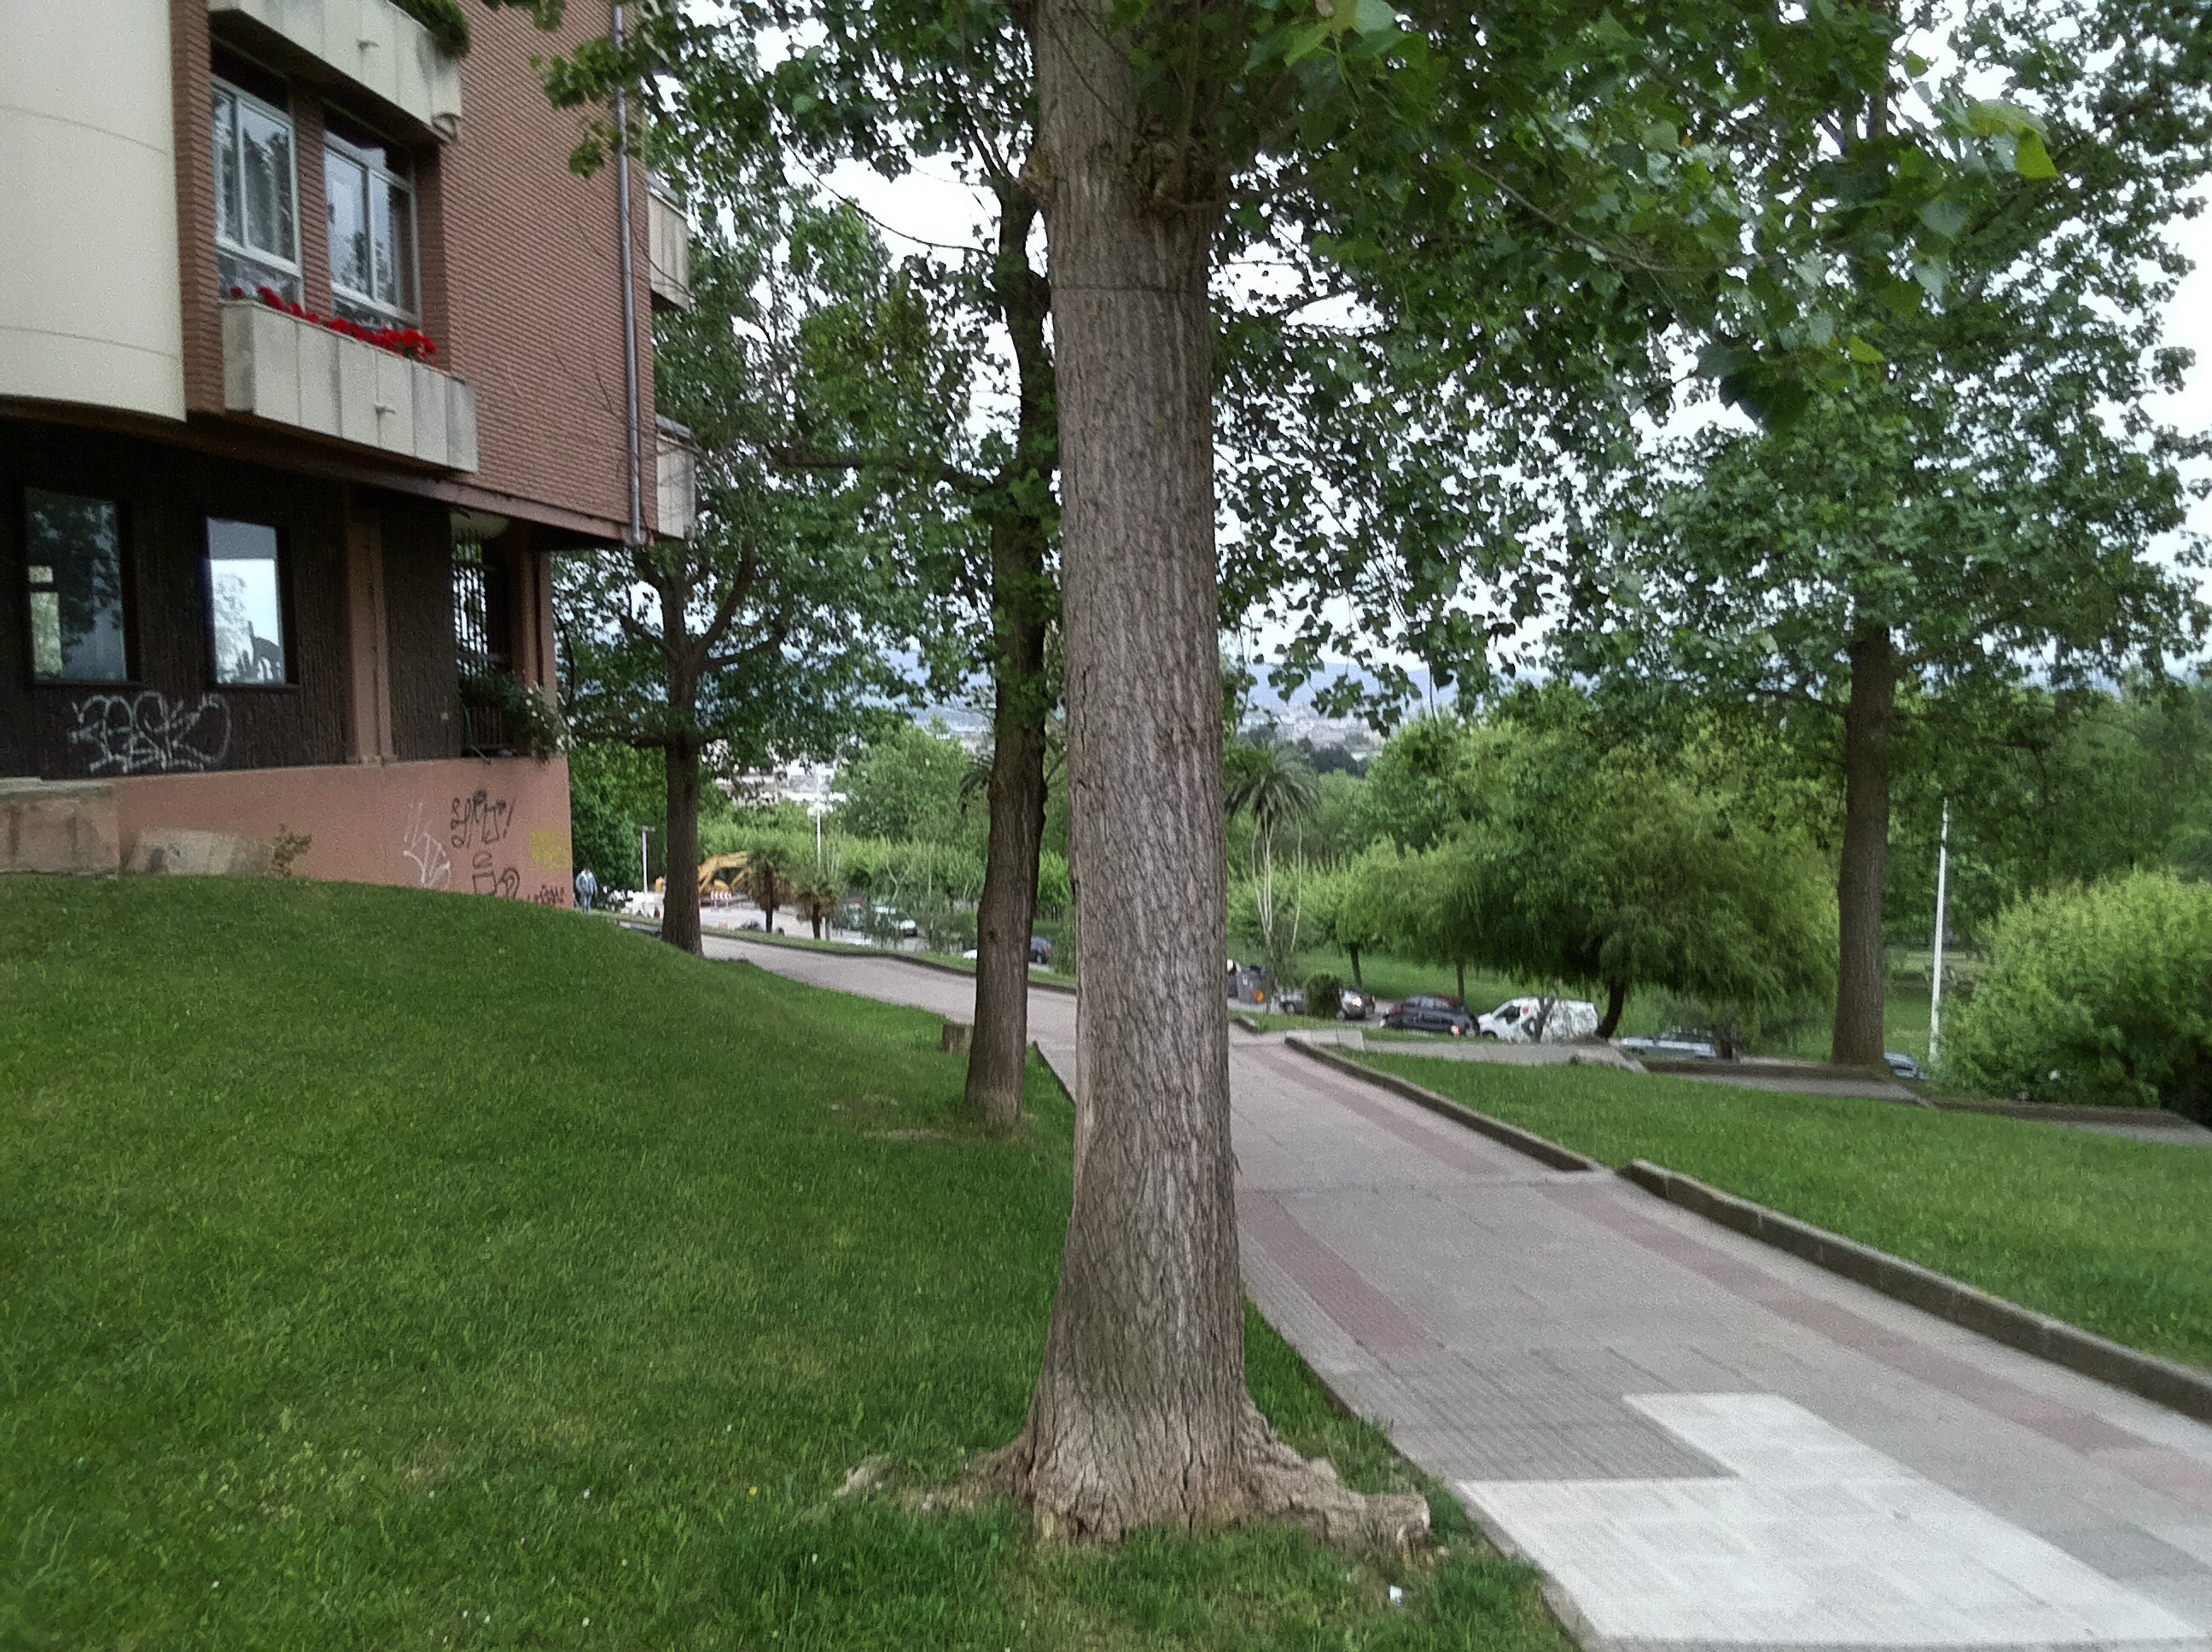Arbol: (840, 0, 1549, 1579), (710, 10, 1107, 1152)
Muro: (28, 0, 658, 906)
